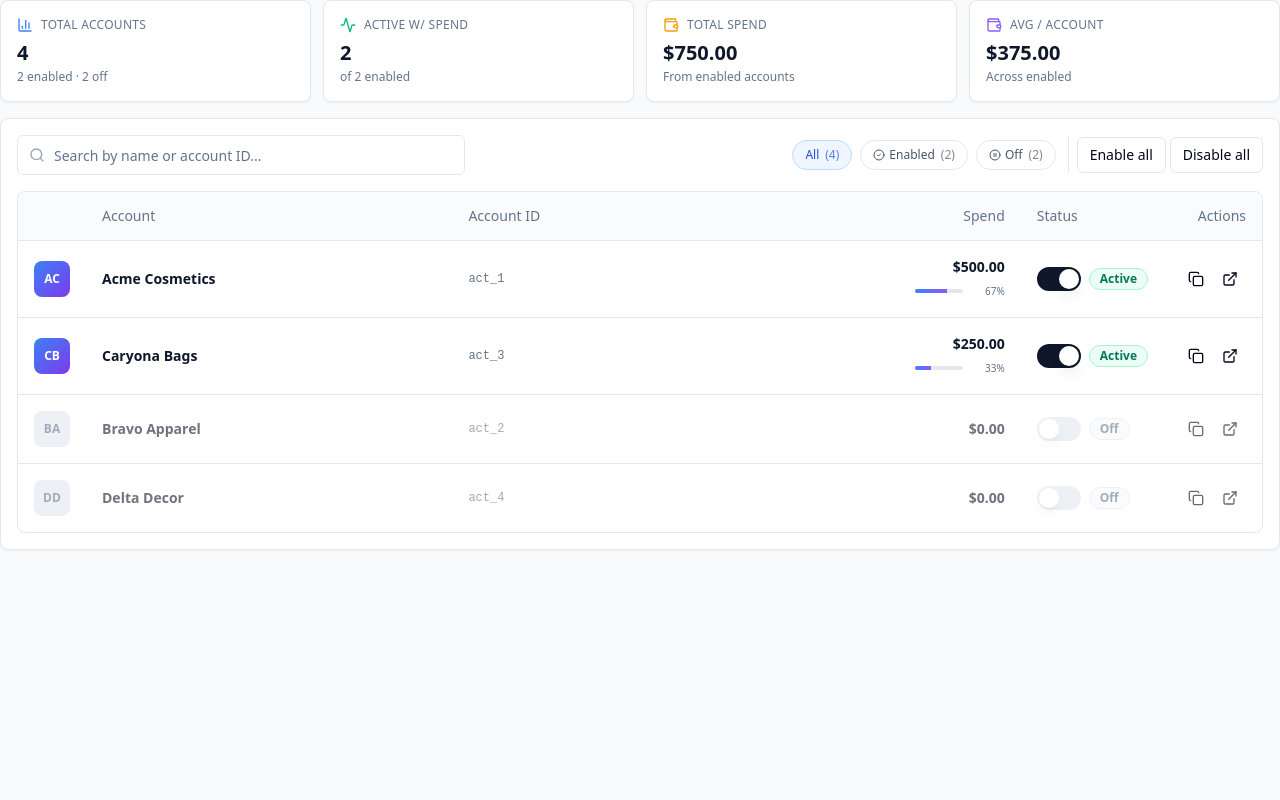
FacebookAccountsTable › filters by disabled status
Click the button "Off (2)". click: x=1016, y=155
box: [976, 140, 1056, 170]
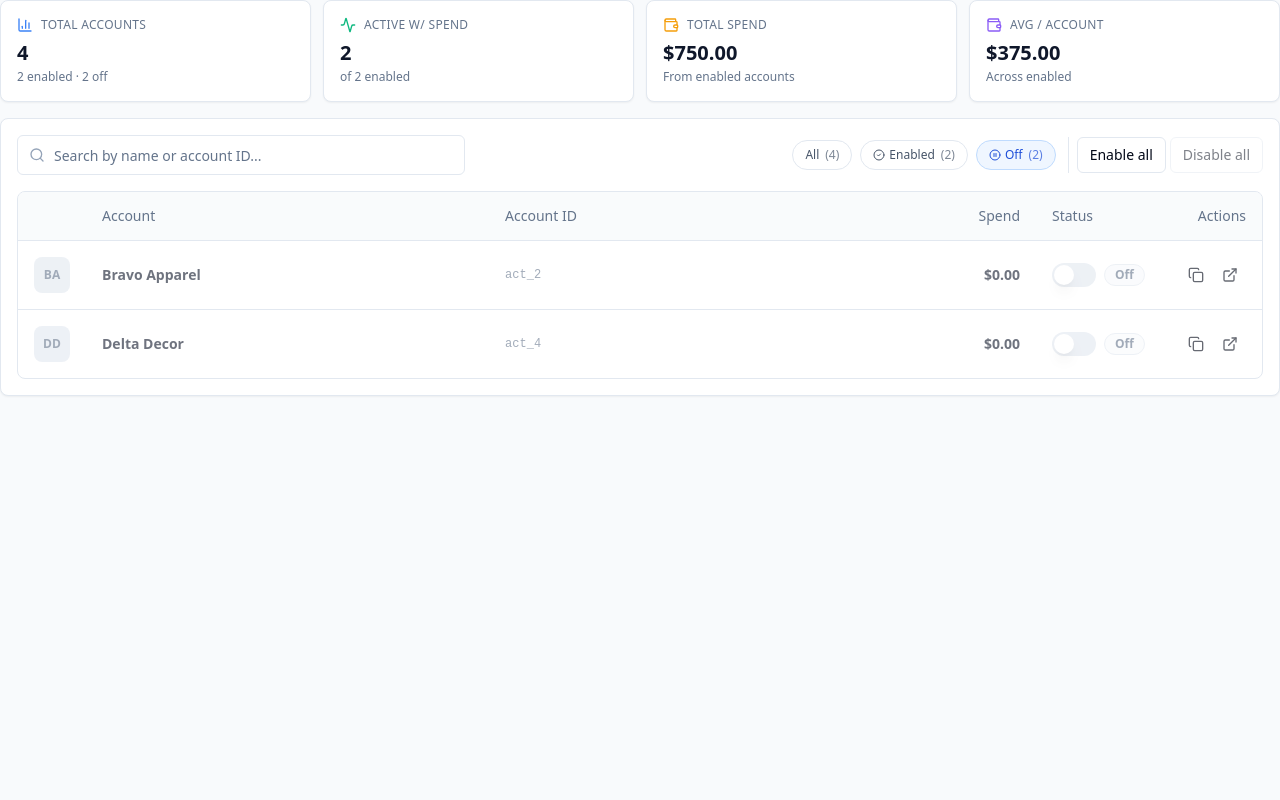
expect the text "Bravo Apparel" is shown: met, box [102, 264, 201, 284]
expect the text "Acme Cosmetics" is gone: met
